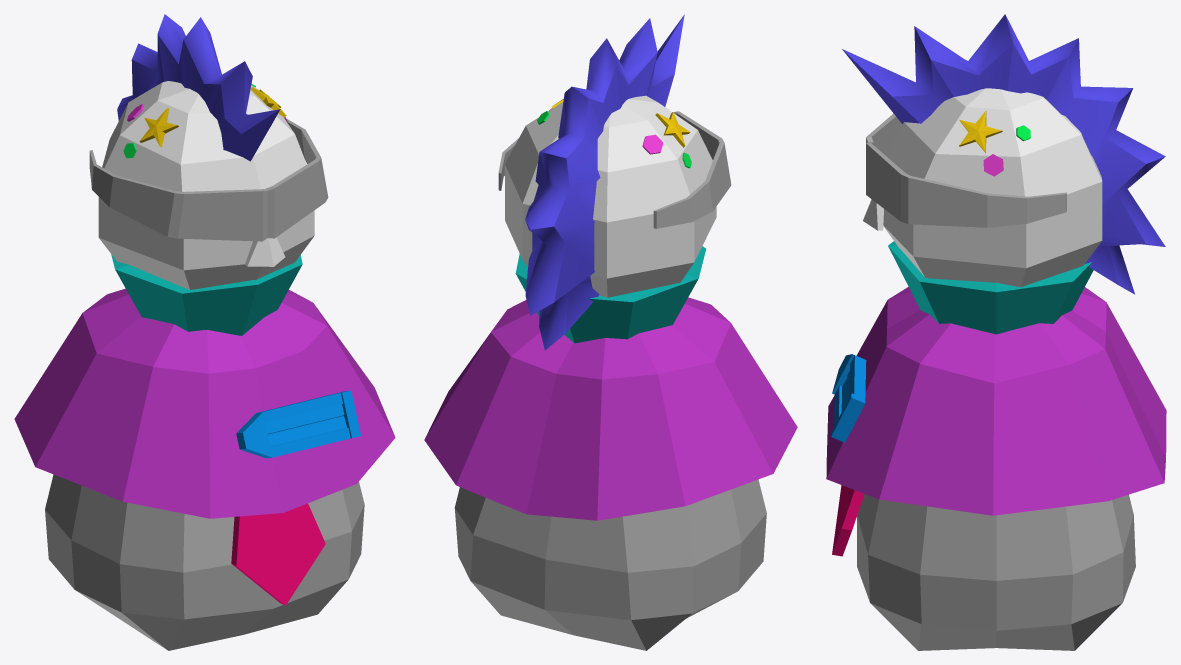
The model's file is Raver.fbx.
The picture shows the model from 3 angles, left to right: view 1: azimuth 30°, elevation 25°; view 2: azimuth 150°, elevation 25°; view 3: azimuth 270°, elevation 25°; orthographic projection. The views are drawn at different scales.
Parts seen in each view (by area): view 1: Coat, Biody, Head, Glasses, Hair, Collar, Peperclip, HairDetails; view 2: Coat, Biody, Head, Hair, Glasses, HairDetails; view 3: Coat, Biody, Head, Hair, Glasses, Peperclip, HairDetails, Collar.
Part boxes in pixels (x1=…): Coat: x1=14, y1=254, x2=395, y2=518; Biody: x1=45, y1=474, x2=364, y2=650; Head: x1=98, y1=81, x2=314, y2=289; Glasses: x1=89, y1=118, x2=328, y2=241; Hair: x1=117, y1=14, x2=280, y2=161; Collar: x1=231, y1=503, x2=325, y2=605; Peperclip: x1=236, y1=390, x2=361, y2=458; HairDetails: x1=123, y1=84, x2=287, y2=158; Coat: x1=424, y1=246, x2=797, y2=520; Biody: x1=454, y1=479, x2=766, y2=650; Head: x1=505, y1=95, x2=716, y2=297; Hair: x1=525, y1=14, x2=684, y2=350; Glasses: x1=498, y1=108, x2=731, y2=228; HairDetails: x1=537, y1=99, x2=691, y2=168; Coat: x1=826, y1=241, x2=1166, y2=515; Biody: x1=857, y1=494, x2=1135, y2=650; Head: x1=863, y1=88, x2=1102, y2=287; Hair: x1=842, y1=14, x2=1165, y2=294; Glasses: x1=866, y1=113, x2=1066, y2=227; Peperclip: x1=831, y1=354, x2=866, y2=442; HairDetails: x1=959, y1=111, x2=1030, y2=176; Collar: x1=832, y1=485, x2=864, y2=556.
Bounding box in the file's own units: 6.84 × 11.44 × 5.85.
